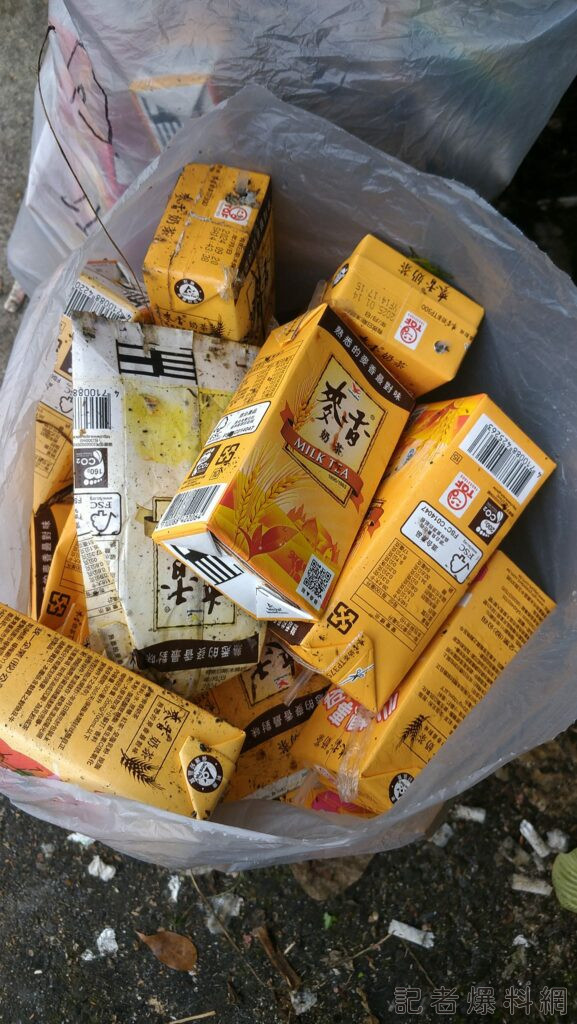鋁箔包: (273, 394, 559, 713), (151, 302, 417, 622), (306, 549, 559, 818), (0, 600, 255, 833), (320, 230, 488, 394), (144, 159, 288, 342)
